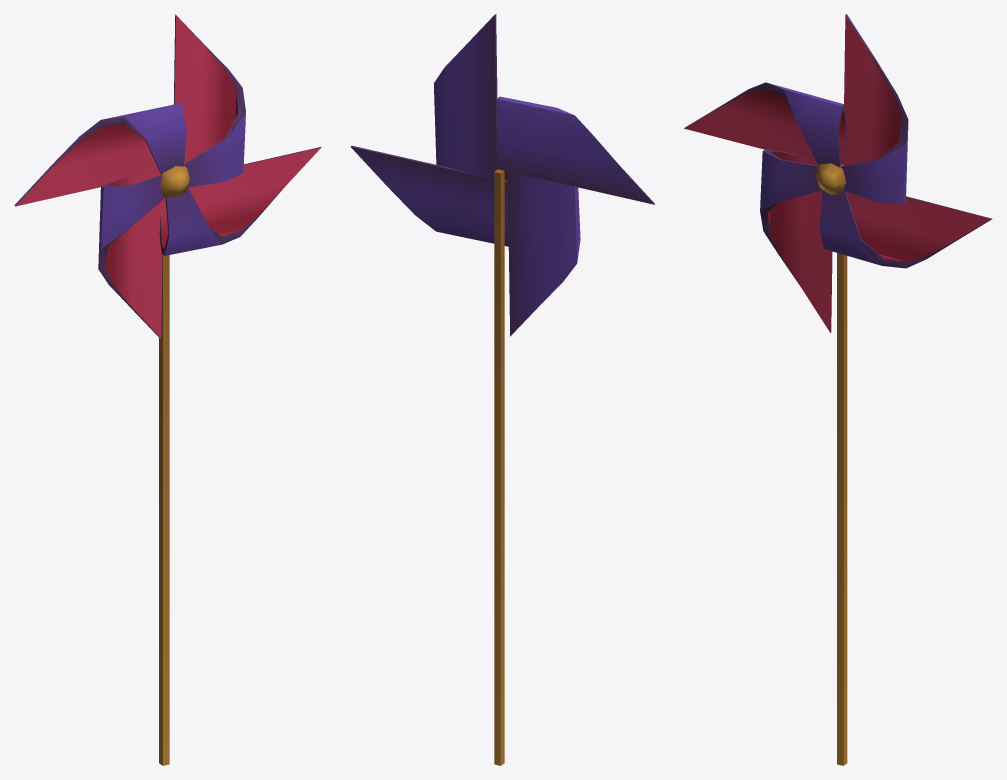
Rendered from human-toys-pinwheel_v1.fbx.
3 views of the same model, side by side, from view 1: azimuth 30°, elevation 25°; view 2: azimuth 150°, elevation 25°; view 3: azimuth 330°, elevation 25° (orthographic).
Parts seen in each view (by area): view 1: Pinwheel_v1; view 2: Pinwheel_v1; view 3: Pinwheel_v1.
Part boxes in pixels (x1=…): Pinwheel_v1: x1=14, y1=14, x2=321, y2=765; Pinwheel_v1: x1=350, y1=14, x2=655, y2=765; Pinwheel_v1: x1=684, y1=14, x2=992, y2=765.
Bounding box in the file's own units: 0.1709 × 0.4 × 0.0185.
